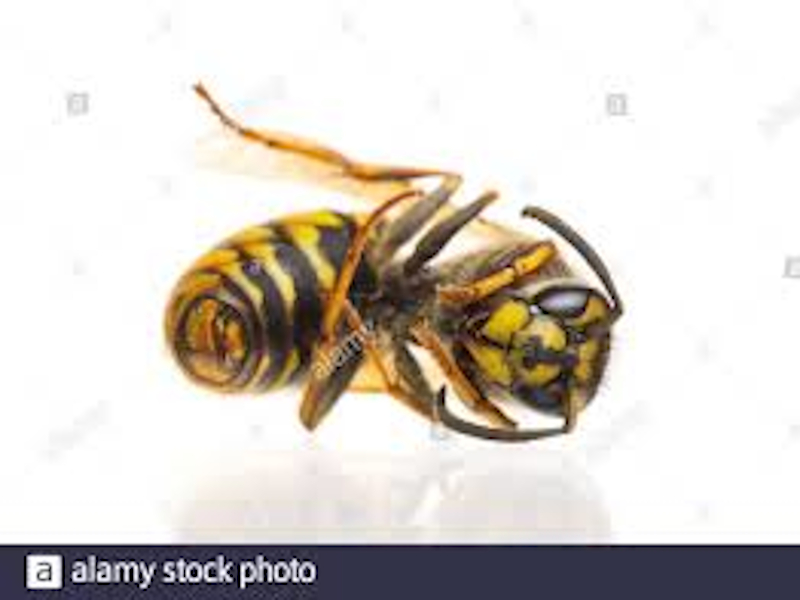chax: (139, 64, 660, 464)
